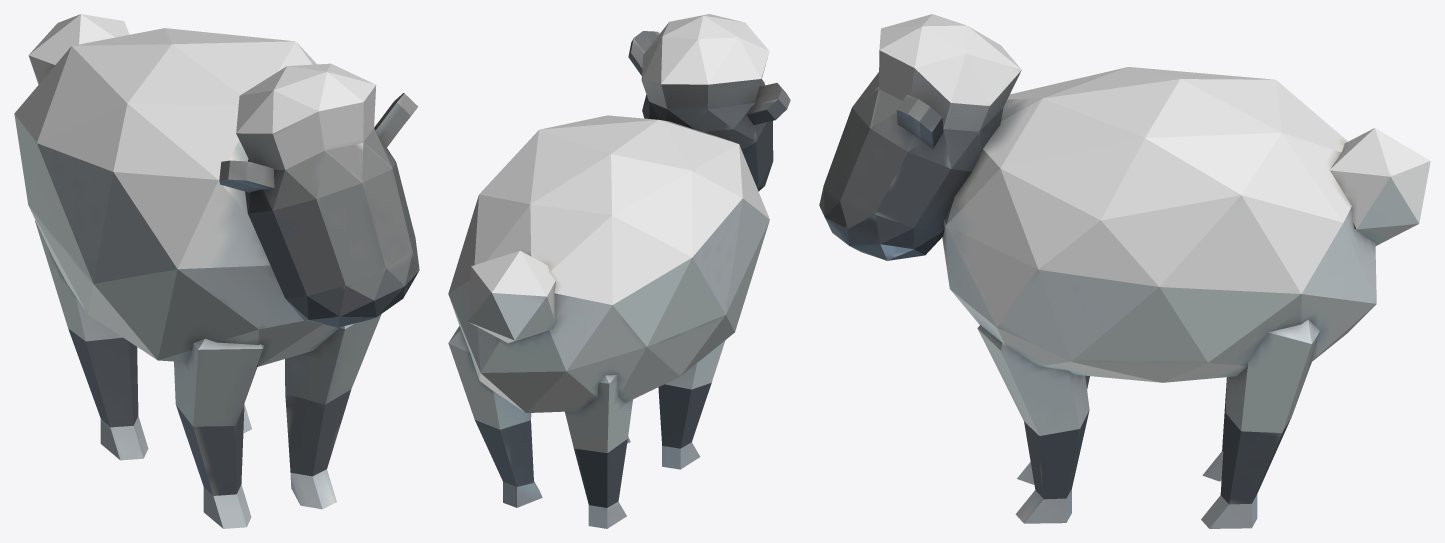
Rendered from animal-sheep-01.glb.
3 views of the same model, side by side, from view 1: azimuth 30°, elevation 25°; view 2: azimuth 150°, elevation 25°; view 3: azimuth 270°, elevation 25° (orthographic). The views are drawn at different scales.
Visible parts, largest first — view 1: node-0; view 2: node-0; view 3: node-0.
Boxes of the visible parts, box(x1,y1,x2,y2) form: node-0: box(14, 14, 419, 528); node-0: box(448, 14, 790, 528); node-0: box(819, 14, 1430, 528).
Bounding box in the file's own units: 0.9709 × 1.6 × 1.89.
Materials: 1 (1 with a texture image).
